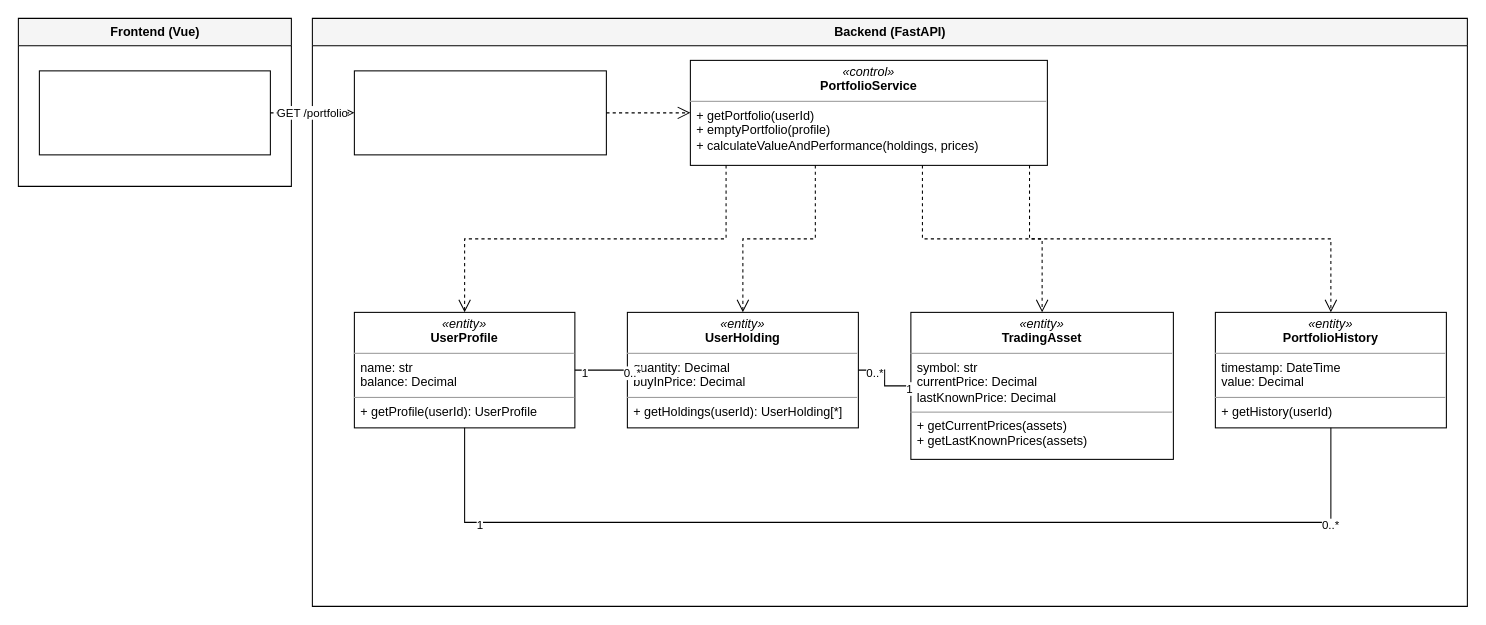
Some shapes in this 1486 by 625 pixel diagram are drawn without their labels. The shapes that lost their labels are listed below. From the top down, each one's centre as x and y in pixels, then its label:
(x=154, y=112): «component» PortfolioPage + openPortfolio()
(x=479, y=112): «boundary» PortfolioController + getPortfolio()
